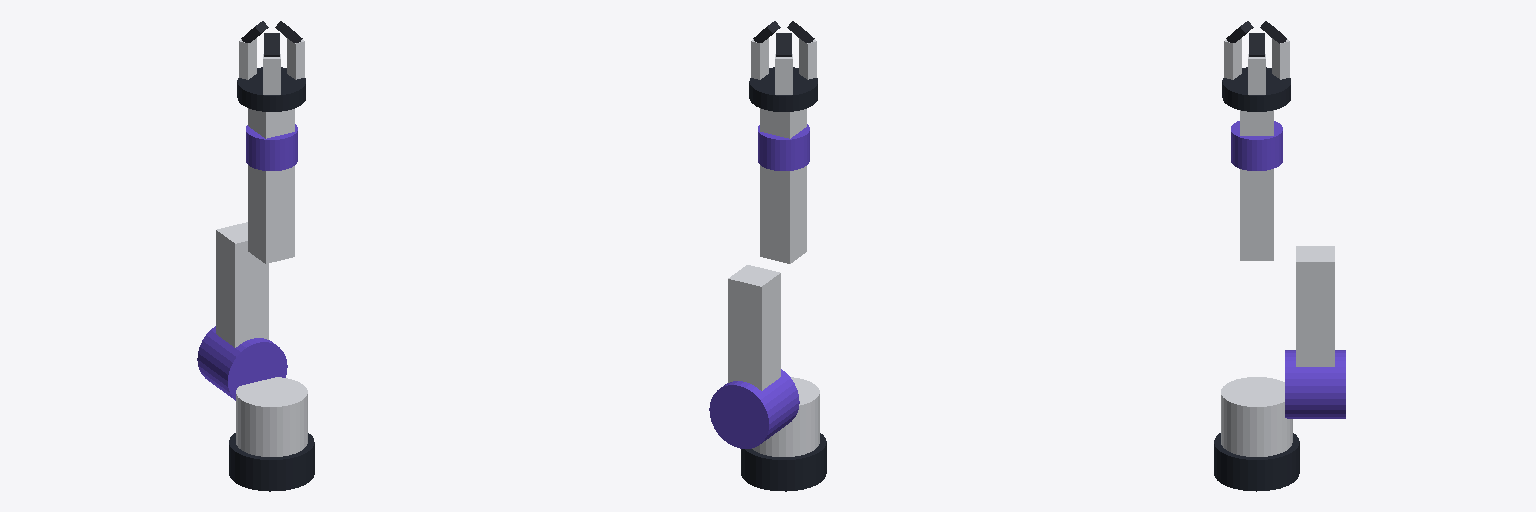
URDF robot description (cobot7):
<?xml version="1.0"?>
<!--
  cobot7.urdf — robot-sim-web 7축 협동로봇 + 3지(three-finger) 클로 그리퍼
  프리미티브 지오메트리만 사용 (외부 메시 파일 불필요 — 정적 호스팅 친화).
  URDF 표준 관례상 Z-up이며, 로딩 시 render/urdf.ts의 axisFix가 Y-up으로 변환한다 (CLAUDE.md §4).
  단위: 미터, 라디안.

  ── 축 배열: S-R-S (Spherical-Revolute-Spherical) 7-DOF ────────────────
  arm6는 Z·Y·Y·Z·Y·Z 로 "6관절 직렬"이다. 여기는 Z·Y·Z·Y·Z·Y·Z 로 피치와 롤이
  교대하며, 기능 단위로 묶으면

      어깨 3축 (joint1 Z · joint2 Y · joint3 Z, 거의 한 점에서 교차)
    + 팔꿈치 1축 (joint4 Y)
    + 손목 3축 (joint5 Z · joint6 Y · joint7 Z, 한 점에서 교차)

  가 된다. 어깨와 손목이 각각 3축 구면 관절이므로, 손끝 pose 6-DOF를 완전히 고정한
  채로도 팔꿈치가 "손목–어깨" 축을 중심으로 원뿔면 위를 스윙하는 1-파라미터 자기운동
  (null-space)이 남는다 — 사람이 손을 책상에 붙인 채 팔꿈치만 들었다 내리는 그 동작이고,
  이것이 여유자유도(redundancy)다. arm6에는 없다: 관절을 하나 더 붙인 것이 아니라
  어깨에 롤(joint3)을 끼워 넣어 구면 관절로 만든 것이 차이다.

  joint2/joint4의 좌우 오프셋(+0.085 / -0.085)은 협동로봇 특유의 어깨 오프셋 형상이며
  joint3=0에서 서로 상쇄되어 전완이 베이스 중심면으로 돌아온다.

  오프셋 값의 하한은 기하가 정한다: link1 실린더 반지름 0.052 + link3 박스 반폭 0.028
  = 0.080 m 이상이어야 상완이 어깨 기둥을 관통하지 않는다. 처음 값 0.048은 이보다
  작아 joint2 범위의 양쪽 끝에서 20.6mm 파고들었다(OBB-SAT 실측).
  selfCollision은 기본 off라(§5) 물리 이벤트가 나지 않으므로 화면으로만 드러난다 —
  src/render/robot-self-clearance.test.ts가 이 회귀를 잡는다.

  ── 그리퍼: 3지 revolute 클로 ────────────────────────────────────────
  손가락 3개가 120° 간격(0°/120°/240°)으로 손바닥(link7)에 달려 **안쪽으로 굽는다**.
  세 관절이 같은 값을 받으면(제어 계층 gripper step 규약: config.joints 전체 동일값)
  동시에 오므라든다. 각 관절의 origin rpy가 손가락을 120°씩 돌려 놓으므로 같은 각도가
  각자의 반경 방향 안쪽 굽힘이 된다.
  값 -0.65 = 완전 열림, +0.10 = 완전 닫힘. (음수가 열림인 이유: 0 = 손가락이 공구축과
  나란히 곧게 뻗은 상태이고, 그보다 더 벌리려면 바깥으로 젖혀야 한다.)

  prismatic(반경 방향 직선 조임)이 아니라 revolute를 고른 이유:
  이 시뮬레이터의 파지는 흡착도 조인트 구속도 없는 **순수 접촉 마찰**이고, 로봇 링크는
  kinematicPosition 바디(무한 강성·위치 지령·힘 피드백 없음)다. 즉 접촉 법선력은 오직
  "얼마나 파고들게 닫았는가"로 결정된다.
  - prismatic 손가락의 접촉면은 공구축과 나란한 수직면이라 법선이 전부 수평이다.
    사물을 드는 힘 전체가 μ·N 하나에 걸리고, N은 close 값을 mm 단위로 얼마나 맞췄는지에
    좌우된다 — 덜 닫으면 떨어뜨리고 더 닫으면 튕겨 나간다.
  - revolute 손가락은 끝마디 패드가 안쪽·손바닥 쪽으로 기울어(pad rpy="0 -0.75 0")
    접촉 법선에 **축 방향 성분**이 생긴다. 사물이 마찰이 아니라 법선력으로 받쳐지는
    기하학적 케이징이 되어 close 값 오차에 훨씬 관대하다.
  - 라이브러리의 구(반지름 5cm)는 수직 평면 조(jaw)로는 적도 한 점에서만 닿아 굴러
    빠지지만, 굽은 세 손가락은 적도 아래를 받쳐 가둔다.
  실물 3지 그리퍼(Robotiq 3-Finger, Barrett Hand)가 모두 굽는 방식인 것도 같은 이유다.

  색: 펄 화이트 셸 + 인디고 액센트 (arm6의 다크슬레이트+오렌지와 구분).
-->
<robot name="cobot7">

  <material name="shell_white">
    <color rgba="0.88 0.89 0.91 1.0"/>
  </material>
  <material name="accent_indigo">
    <color rgba="0.45 0.35 0.85 1.0"/>
  </material>
  <material name="joint_dark">
    <color rgba="0.18 0.20 0.24 1.0"/>
  </material>
  <material name="pad_charcoal">
    <color rgba="0.20 0.21 0.24 1.0"/>
  </material>

  <!-- ── 베이스 ─────────────────────────────────────────── -->
  <link name="base_link">
    <visual>
      <origin xyz="0 0 0.025" rpy="0 0 0"/>
      <geometry><cylinder radius="0.062" length="0.05"/></geometry>
      <material name="joint_dark"/>
    </visual>
    <collision>
      <origin xyz="0 0 0.025" rpy="0 0 0"/>
      <geometry><cylinder radius="0.062" length="0.05"/></geometry>
    </collision>
    <inertial>
      <mass value="2.0"/>
      <inertia ixx="0.012" iyy="0.012" izz="0.012" ixy="0" ixz="0" iyz="0"/>
    </inertial>
  </link>

  <!-- ── J1: 어깨 요 (Z) — 구면 어깨 1/3 ─────────────────── -->
  <joint name="joint1" type="revolute">
    <parent link="base_link"/>
    <child link="link1"/>
    <origin xyz="0 0 0.05" rpy="0 0 0"/>
    <axis xyz="0 0 1"/>
    <limit lower="-2.9" upper="2.9" effort="60" velocity="2.5"/>
  </joint>
  <link name="link1">
    <visual>
      <origin xyz="0 0 0.04" rpy="0 0 0"/>
      <geometry><cylinder radius="0.052" length="0.08"/></geometry>
      <material name="shell_white"/>
    </visual>
    <collision>
      <origin xyz="0 0 0.04" rpy="0 0 0"/>
      <geometry><cylinder radius="0.052" length="0.08"/></geometry>
    </collision>
    <inertial>
      <mass value="1.2"/>
      <inertia ixx="0.006" iyy="0.006" izz="0.006" ixy="0" ixz="0" iyz="0"/>
    </inertial>
  </link>

  <!-- ── J2: 어깨 피치 (Y) — 구면 어깨 2/3, 협동로봇 어깨 오프셋 +Y ── -->
  <joint name="joint2" type="revolute">
    <parent link="link1"/>
    <child link="link2"/>
    <origin xyz="0 0.085 0.08" rpy="0 0 0"/>
    <axis xyz="0 1 0"/>
    <limit lower="-1.95" upper="1.95" effort="60" velocity="2.5"/>
  </joint>
  <!-- link2 = 어깨 드럼. J2 피치축(Y)을 감싸는 짧은 원통이라 J3가 J2에 거의 겹친다
       (오프셋 45mm ≪ 상완 175mm) — 어깨가 사실상 구면 관절로 동작한다. -->
  <link name="link2">
    <visual>
      <origin xyz="0 0 0.012" rpy="1.5708 0 0"/>
      <geometry><cylinder radius="0.05" length="0.088"/></geometry>
      <material name="accent_indigo"/>
    </visual>
    <collision>
      <origin xyz="0 0 0.012" rpy="1.5708 0 0"/>
      <geometry><cylinder radius="0.05" length="0.088"/></geometry>
    </collision>
    <inertial>
      <mass value="1.0"/>
      <inertia ixx="0.004" iyy="0.004" izz="0.004" ixy="0" ixz="0" iyz="0"/>
    </inertial>
  </link>

  <!-- ── J3: 상완 롤 (Z) — 구면 어깨 3/3. 여유자유도(팔꿈치 스윙)의 근원 ── -->
  <joint name="joint3" type="revolute">
    <parent link="link2"/>
    <child link="link3"/>
    <origin xyz="0 0 0.045" rpy="0 0 0"/>
    <axis xyz="0 0 1"/>
    <limit lower="-2.9" upper="2.9" effort="40" velocity="3.0"/>
  </joint>
  <!-- link3 = 상완 -->
  <link name="link3">
    <visual>
      <origin xyz="0 0 0.0875" rpy="0 0 0"/>
      <geometry><box size="0.056 0.056 0.175"/></geometry>
      <material name="shell_white"/>
    </visual>
    <collision>
      <origin xyz="0 0 0.0875" rpy="0 0 0"/>
      <geometry><box size="0.056 0.056 0.175"/></geometry>
    </collision>
    <inertial>
      <mass value="0.9"/>
      <inertia ixx="0.005" iyy="0.005" izz="0.002" ixy="0" ixz="0" iyz="0"/>
    </inertial>
  </link>

  <!-- ── J4: 팔꿈치 피치 (Y) — 오프셋 -Y로 중심면 복귀. 과신전 없음 ── -->
  <joint name="joint4" type="revolute">
    <parent link="link3"/>
    <child link="link4"/>
    <origin xyz="0 -0.085 0.175" rpy="0 0 0"/>
    <axis xyz="0 1 0"/>
    <limit lower="-0.2" upper="2.59" effort="40" velocity="3.0"/>
  </joint>
  <!-- link4 = 전완 -->
  <link name="link4">
    <visual>
      <origin xyz="0 0 0.075" rpy="0 0 0"/>
      <geometry><box size="0.05 0.05 0.15"/></geometry>
      <material name="shell_white"/>
    </visual>
    <collision>
      <origin xyz="0 0 0.075" rpy="0 0 0"/>
      <geometry><box size="0.05 0.05 0.15"/></geometry>
    </collision>
    <inertial>
      <mass value="0.7"/>
      <inertia ixx="0.003" iyy="0.003" izz="0.001" ixy="0" ixz="0" iyz="0"/>
    </inertial>
  </link>

  <!-- ── J5: 손목 롤 (Z) — 구면 손목 1/3 ─────────────────── -->
  <joint name="joint5" type="revolute">
    <parent link="link4"/>
    <child link="link5"/>
    <origin xyz="0 0 0.15" rpy="0 0 0"/>
    <axis xyz="0 0 1"/>
    <limit lower="-2.9" upper="2.9" effort="20" velocity="4.0"/>
  </joint>
  <link name="link5">
    <visual>
      <origin xyz="0 0 0.025" rpy="0 0 0"/>
      <geometry><cylinder radius="0.038" length="0.05"/></geometry>
      <material name="accent_indigo"/>
    </visual>
    <collision>
      <origin xyz="0 0 0.025" rpy="0 0 0"/>
      <geometry><cylinder radius="0.038" length="0.05"/></geometry>
    </collision>
    <inertial>
      <mass value="0.4"/>
      <inertia ixx="0.001" iyy="0.001" izz="0.001" ixy="0" ixz="0" iyz="0"/>
    </inertial>
  </link>

  <!-- ── J6: 손목 피치 (Y) — 구면 손목 2/3 ───────────────── -->
  <joint name="joint6" type="revolute">
    <parent link="link5"/>
    <child link="link6"/>
    <origin xyz="0 0 0.05" rpy="0 0 0"/>
    <axis xyz="0 1 0"/>
    <limit lower="-1.86" upper="1.86" effort="20" velocity="4.0"/>
  </joint>
  <link name="link6">
    <visual>
      <origin xyz="0 0 0.025" rpy="0 0 0"/>
      <geometry><box size="0.05 0.05 0.05"/></geometry>
      <material name="shell_white"/>
    </visual>
    <collision>
      <origin xyz="0 0 0.025" rpy="0 0 0"/>
      <geometry><box size="0.05 0.05 0.05"/></geometry>
    </collision>
    <inertial>
      <mass value="0.3"/>
      <inertia ixx="0.001" iyy="0.001" izz="0.001" ixy="0" ixz="0" iyz="0"/>
    </inertial>
  </link>

  <!-- ── J7: 공구 롤 (Z, 플랜지) — 구면 손목 3/3 ─────────── -->
  <joint name="joint7" type="revolute">
    <parent link="link6"/>
    <child link="link7"/>
    <origin xyz="0 0 0.05" rpy="0 0 0"/>
    <axis xyz="0 0 1"/>
    <limit lower="-3.05" upper="3.05" effort="10" velocity="5.0"/>
  </joint>
  <!-- link7 = 손바닥(palm). 손가락 3개가 이 링크에 120° 간격으로 붙는다. -->
  <link name="link7">
    <visual>
      <origin xyz="0 0 0.013" rpy="0 0 0"/>
      <geometry><cylinder radius="0.05" length="0.026"/></geometry>
      <material name="joint_dark"/>
    </visual>
    <collision>
      <origin xyz="0 0 0.013" rpy="0 0 0"/>
      <geometry><cylinder radius="0.05" length="0.026"/></geometry>
    </collision>
    <inertial>
      <mass value="0.25"/>
      <inertia ixx="0.0005" iyy="0.0005" izz="0.0005" ixy="0" ixz="0" iyz="0"/>
    </inertial>
  </link>

  <!-- ── 3지 클로 그리퍼 ────────────────────────────────────────────────
       axis="0 -1 0"은 각 손가락 프레임에서 "국소 +Z(뻗은 방향)를 국소 -X(축 방향
       안쪽)로" 기울인다 → 양수 = 닫힘, 음수 = 열림.
       링크마다 프리미티브 2개: 근위 마디(곧은 박스) + 끝마디 패드(안쪽 -0.75 rad 기울임).
       패드 기울기가 접촉 법선에 축 방향 성분을 주어 사물을 받쳐 가둔다 (파일 헤더 근거). -->

  <!-- finger_a: 0° -->
  <joint name="finger_a_joint" type="revolute">
    <parent link="link7"/>
    <child link="finger_a"/>
    <origin xyz="0.04 0 0.026" rpy="0 0 0"/>
    <axis xyz="0 -1 0"/>
    <limit lower="-0.70" upper="0.05" effort="10" velocity="2.0"/>
  </joint>
  <link name="finger_a">
    <visual>
      <origin xyz="0 0 0.029" rpy="0 0 0"/>
      <geometry><box size="0.016 0.026 0.058"/></geometry>
      <material name="shell_white"/>
    </visual>
    <collision>
      <origin xyz="0 0 0.029" rpy="0 0 0"/>
      <geometry><box size="0.016 0.026 0.058"/></geometry>
    </collision>
    <visual>
      <origin xyz="-0.0116 0 0.0704" rpy="0 -0.75 0"/>
      <geometry><box size="0.013 0.024 0.034"/></geometry>
      <material name="pad_charcoal"/>
    </visual>
    <collision>
      <origin xyz="-0.0116 0 0.0704" rpy="0 -0.75 0"/>
      <geometry><box size="0.013 0.024 0.034"/></geometry>
    </collision>
    <inertial>
      <mass value="0.06"/>
      <inertia ixx="0.0001" iyy="0.0001" izz="0.0001" ixy="0" ixz="0" iyz="0"/>
    </inertial>
  </link>

  <!-- finger_b: 120° -->
  <joint name="finger_b_joint" type="revolute">
    <parent link="link7"/>
    <child link="finger_b"/>
    <origin xyz="-0.02 0.034641 0.026" rpy="0 0 2.094395"/>
    <axis xyz="0 -1 0"/>
    <limit lower="-0.70" upper="0.05" effort="10" velocity="2.0"/>
  </joint>
  <link name="finger_b">
    <visual>
      <origin xyz="0 0 0.029" rpy="0 0 0"/>
      <geometry><box size="0.016 0.026 0.058"/></geometry>
      <material name="shell_white"/>
    </visual>
    <collision>
      <origin xyz="0 0 0.029" rpy="0 0 0"/>
      <geometry><box size="0.016 0.026 0.058"/></geometry>
    </collision>
    <visual>
      <origin xyz="-0.0116 0 0.0704" rpy="0 -0.75 0"/>
      <geometry><box size="0.013 0.024 0.034"/></geometry>
      <material name="pad_charcoal"/>
    </visual>
    <collision>
      <origin xyz="-0.0116 0 0.0704" rpy="0 -0.75 0"/>
      <geometry><box size="0.013 0.024 0.034"/></geometry>
    </collision>
    <inertial>
      <mass value="0.06"/>
      <inertia ixx="0.0001" iyy="0.0001" izz="0.0001" ixy="0" ixz="0" iyz="0"/>
    </inertial>
  </link>

  <!-- finger_c: 240° -->
  <joint name="finger_c_joint" type="revolute">
    <parent link="link7"/>
    <child link="finger_c"/>
    <origin xyz="-0.02 -0.034641 0.026" rpy="0 0 4.188790"/>
    <axis xyz="0 -1 0"/>
    <limit lower="-0.70" upper="0.05" effort="10" velocity="2.0"/>
  </joint>
  <link name="finger_c">
    <visual>
      <origin xyz="0 0 0.029" rpy="0 0 0"/>
      <geometry><box size="0.016 0.026 0.058"/></geometry>
      <material name="shell_white"/>
    </visual>
    <collision>
      <origin xyz="0 0 0.029" rpy="0 0 0"/>
      <geometry><box size="0.016 0.026 0.058"/></geometry>
    </collision>
    <visual>
      <origin xyz="-0.0116 0 0.0704" rpy="0 -0.75 0"/>
      <geometry><box size="0.013 0.024 0.034"/></geometry>
      <material name="pad_charcoal"/>
    </visual>
    <collision>
      <origin xyz="-0.0116 0 0.0704" rpy="0 -0.75 0"/>
      <geometry><box size="0.013 0.024 0.034"/></geometry>
    </collision>
    <inertial>
      <mass value="0.06"/>
      <inertia ixx="0.0001" iyy="0.0001" izz="0.0001" ixy="0" ixz="0" iyz="0"/>
    </inertial>
  </link>

</robot>

--- What the picture shows (computed from the rendered views, not written in the file) ---
Views: 3 orthographic renders of the robot side by side, from view 1: azimuth 30°, elevation 25°; view 2: azimuth 150°, elevation 25°; view 3: azimuth 270°, elevation 25°.
Robot: cobot7 — 11 links, 10 joints (10 revolute); root link base_link; default pose: every joint at zero.
Visible links, largest first — view 1: link3, link1, link4, link2, base_link, link7, link5, link6, finger_c, finger_b, finger_a; view 2: link3, link2, link4, base_link, link1, link7, link5, link6, finger_b, finger_a, finger_c; view 3: link1, link3, link2, base_link, link4, link7, link5, finger_a, finger_c, finger_b, link6.
Link boxes in pixels (x1,y1,x2,y2): link3: (216,222,268,347); link1: (236,377,307,456); link4: (248,165,294,263); link2: (197,326,287,400); base_link: (229,433,314,491); link7: (237,67,305,111); link5: (246,124,297,170); link6: (248,108,294,138); finger_c: (263,33,280,94); finger_b: (239,21,268,79); finger_a: (275,21,304,79); link3: (728,265,780,390); link2: (709,369,799,448); link4: (760,165,806,263); base_link: (741,433,826,491); link1: (752,377,819,456); link7: (749,67,817,111); link5: (758,124,809,170); link6: (760,108,806,138); finger_b: (775,33,792,94); finger_a: (751,21,780,79); finger_c: (787,21,816,79); link1: (1221,377,1292,456); link3: (1296,246,1334,366); link2: (1285,350,1345,418); base_link: (1214,433,1299,491); link4: (1240,169,1273,260); link7: (1222,67,1290,111); link5: (1231,121,1282,170); finger_a: (1248,33,1265,94); finger_c: (1224,21,1253,79); finger_b: (1260,21,1289,79); link6: (1240,110,1273,135).
Size in the robot's own frame: 0.124 by 0.191 by 0.7133 metres.
Geometry: primitives only (box / cylinder / sphere), no mesh files.
